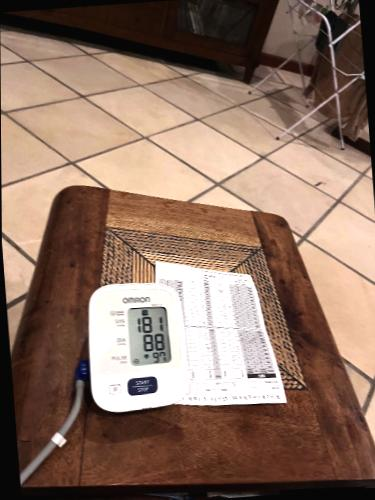bpm: (125, 306, 171, 367)
